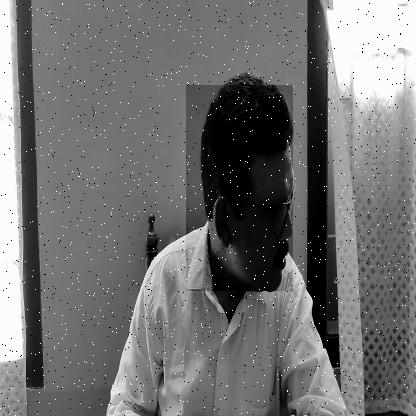Distracted: (186, 85, 293, 291)
